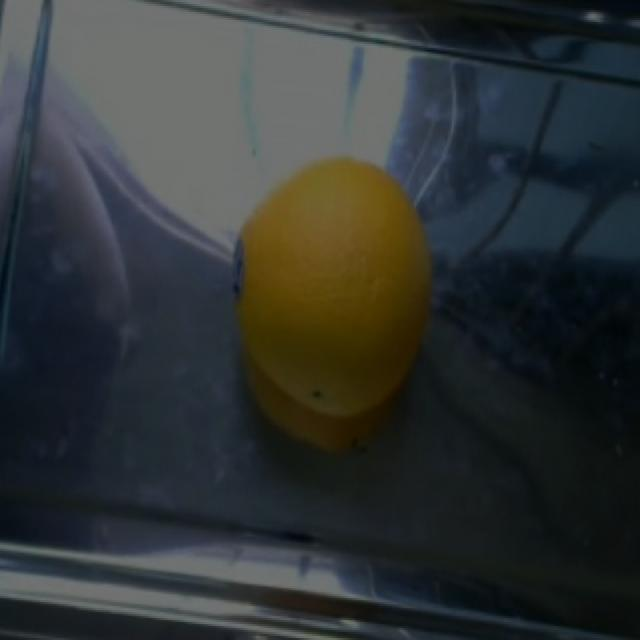Fruit: (225, 143, 444, 505)
